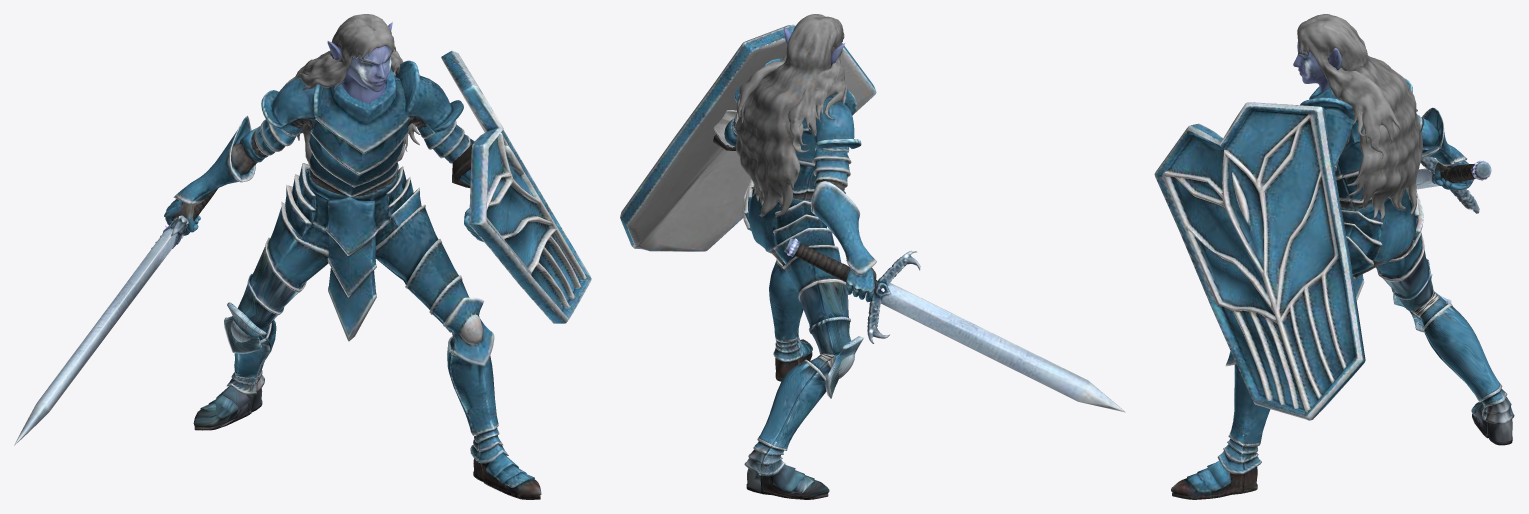
The model's file is MZ4250 - Elf Female Paladin_2 2025.glb.
3 views of the same model, side by side, from view 1: azimuth 30°, elevation 25°; view 2: azimuth 150°, elevation 25°; view 3: azimuth 270°, elevation 25° (orthographic). The views are drawn at different scales.
Parts seen in each view (by area): view 1: Body.002; view 2: Body.002; view 3: Body.002.
Boxes of the visible parts, left/top/right/bottom form: Body.002: left=14, top=14, right=591, bottom=499; Body.002: left=620, top=14, right=1125, bottom=499; Body.002: left=1154, top=14, right=1514, bottom=499.
Bounding box in the file's own units: 106 × 80.84 × 60.73.
Materials: 1 (1 with a texture image).
